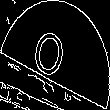O_S: (34, 23, 76, 87)
